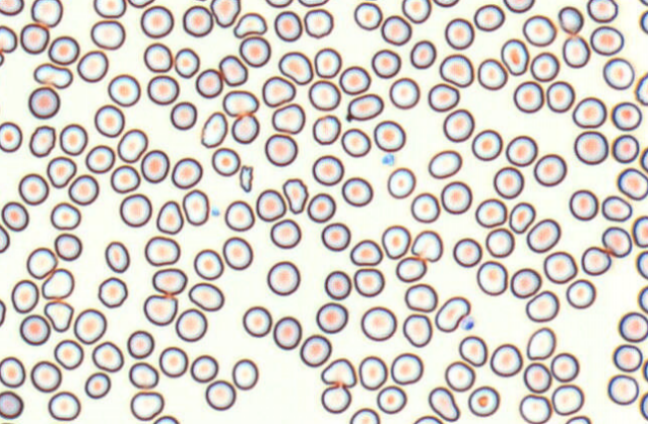PLT: (381, 153, 396, 167), (461, 317, 476, 331), (210, 207, 222, 217)
RBC: (434, 295, 470, 332), (360, 305, 396, 341), (266, 260, 300, 295), (526, 218, 560, 253), (573, 130, 608, 164), (73, 308, 106, 344), (439, 53, 473, 87), (278, 51, 313, 84), (119, 193, 152, 227), (489, 343, 522, 377), (144, 235, 180, 266), (264, 133, 297, 166), (140, 5, 173, 38), (107, 73, 140, 106), (533, 153, 566, 186), (143, 293, 177, 325), (175, 308, 207, 342), (261, 75, 295, 107), (271, 102, 305, 134), (525, 290, 559, 322), (543, 251, 577, 283), (442, 108, 474, 142), (440, 180, 472, 214), (522, 14, 556, 46), (572, 96, 606, 128), (476, 260, 507, 295), (90, 19, 125, 50), (500, 38, 529, 75), (299, 334, 331, 367), (390, 352, 423, 384), (76, 49, 108, 82), (602, 57, 634, 90), (222, 236, 253, 270), (117, 128, 147, 163), (188, 282, 224, 311), (346, 93, 383, 121), (467, 385, 499, 417), (373, 120, 405, 152), (388, 77, 420, 109), (308, 79, 340, 111), (28, 86, 60, 118), (26, 246, 57, 279), (315, 302, 348, 333), (255, 188, 286, 221), (551, 384, 584, 415), (130, 390, 164, 420), (402, 313, 432, 347), (590, 25, 624, 55), (358, 355, 387, 390), (381, 224, 410, 259), (222, 89, 258, 117), (200, 111, 228, 147), (30, 360, 61, 392), (18, 173, 49, 205), (607, 374, 639, 405), (91, 341, 123, 372), (493, 166, 524, 198), (171, 157, 202, 189), (312, 154, 344, 185), (182, 5, 213, 37), (239, 35, 270, 67), (505, 135, 537, 166), (471, 129, 502, 161), (617, 167, 647, 200), (518, 393, 551, 423), (526, 327, 556, 360), (94, 104, 124, 137), (513, 80, 543, 113), (273, 315, 302, 349), (140, 149, 169, 183), (428, 149, 462, 178), (152, 267, 187, 295), (182, 189, 209, 225), (205, 379, 236, 410), (19, 314, 50, 345), (68, 174, 99, 205), (444, 360, 475, 391), (510, 267, 541, 298), (565, 278, 596, 309), (601, 226, 632, 257), (97, 276, 127, 308), (46, 156, 76, 188), (242, 305, 272, 337), (193, 248, 223, 280), (19, 22, 49, 54), (269, 218, 301, 248), (218, 54, 248, 86), (477, 58, 507, 90), (341, 176, 373, 206), (147, 74, 179, 104), (444, 17, 474, 49), (47, 391, 80, 420), (404, 283, 437, 312), (11, 279, 39, 313), (158, 346, 188, 377), (353, 267, 384, 297), (224, 200, 254, 231), (48, 35, 79, 65), (410, 192, 440, 223), (381, 14, 411, 45), (427, 82, 459, 111), (475, 198, 507, 227), (562, 35, 590, 68), (156, 200, 183, 234), (53, 339, 83, 369), (303, 8, 333, 38), (341, 127, 371, 157), (581, 245, 611, 275), (371, 48, 401, 78), (452, 237, 482, 267), (618, 311, 647, 342), (50, 201, 81, 230), (458, 335, 487, 366), (339, 65, 370, 94), (386, 167, 415, 198), (569, 189, 598, 220), (611, 101, 642, 130), (59, 123, 87, 155), (546, 80, 574, 112), (30, 0, 63, 27), (349, 239, 382, 266), (376, 385, 406, 414), (110, 164, 140, 193), (612, 343, 642, 372), (307, 192, 336, 222), (550, 352, 579, 382), (85, 144, 115, 173), (530, 51, 559, 81), (143, 42, 172, 72), (485, 227, 514, 257), (320, 385, 351, 413), (523, 362, 551, 393), (312, 114, 340, 145), (313, 47, 341, 78), (274, 10, 302, 41), (231, 358, 258, 390), (508, 201, 535, 233), (29, 125, 56, 157), (321, 222, 350, 251), (211, 147, 240, 176), (353, 1, 382, 30), (128, 361, 158, 389), (231, 114, 259, 144), (195, 68, 223, 98), (473, 4, 504, 31), (126, 329, 154, 358), (611, 134, 639, 163), (1, 201, 28, 231), (210, 0, 240, 27), (395, 256, 426, 282), (601, 195, 632, 221), (104, 240, 129, 272), (190, 354, 218, 382), (54, 233, 82, 261), (324, 270, 351, 299), (409, 39, 436, 68), (170, 101, 197, 130), (0, 356, 25, 387), (174, 47, 199, 78), (84, 372, 111, 399), (558, 6, 583, 34), (401, 0, 431, 23), (0, 121, 22, 152), (587, 0, 618, 22), (0, 390, 23, 419), (93, 0, 126, 18), (0, 24, 17, 53), (632, 215, 647, 247), (349, 407, 379, 423), (503, 0, 534, 13), (635, 72, 647, 105), (0, 0, 24, 15), (635, 250, 647, 279), (0, 224, 10, 253), (637, 285, 647, 313), (639, 391, 648, 420), (413, 415, 442, 423), (297, 0, 328, 7), (127, 0, 154, 8), (639, 146, 647, 172), (153, 415, 179, 423), (565, 415, 591, 423), (639, 9, 647, 34), (265, 0, 292, 7), (433, 0, 459, 7), (0, 299, 6, 326), (642, 358, 648, 382), (0, 49, 5, 67), (639, 0, 648, 6), (190, 0, 208, 2)
Schistocyte: (41, 268, 76, 302), (320, 357, 357, 389), (428, 387, 461, 422), (32, 62, 73, 89), (412, 229, 444, 263), (283, 178, 309, 215), (44, 301, 75, 332), (232, 12, 268, 38), (240, 164, 255, 194)
